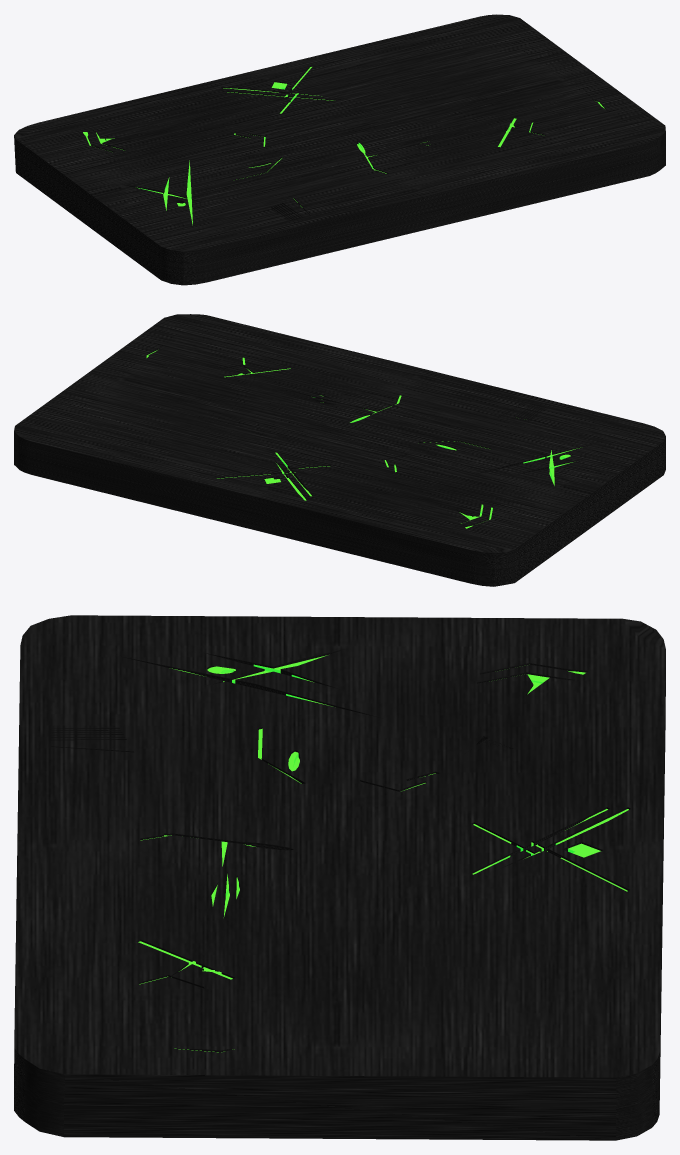
Rendered from alien_chants_tablet.fbx.
The picture shows the model from 3 angles, top to bottom: view 1: azimuth 30°, elevation 25°; view 2: azimuth 150°, elevation 25°; view 3: azimuth 270°, elevation 25°; orthographic projection. The views are drawn at different scales.
Parts seen in each view (by area): view 1: polySurface118; view 2: polySurface118; view 3: polySurface118.
Part boxes in pixels (box(x1,y1,x2,y2)): polySurface118: box(14, 14, 665, 285); polySurface118: box(14, 314, 665, 586); polySurface118: box(14, 615, 665, 1140).
Bounding box in the file's own units: 2.19 × 0.1439 × 1.31.
Materials: 2 (1 with a texture image).
